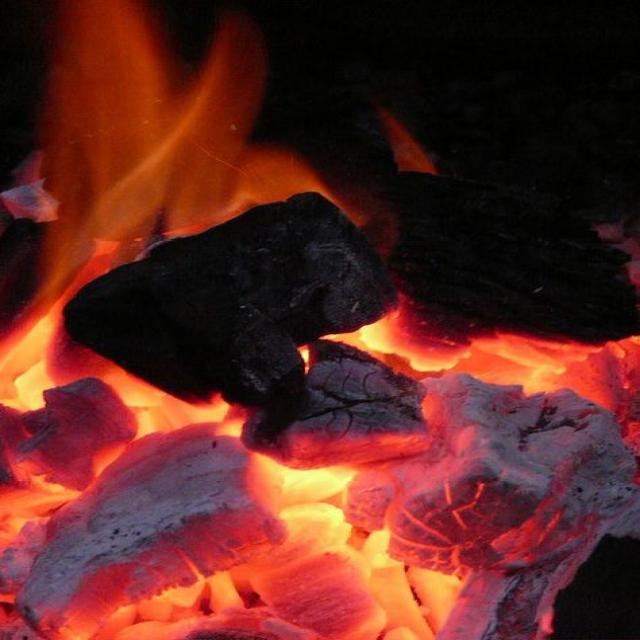Fire: (0, 228, 639, 640), (4, 0, 372, 227)
